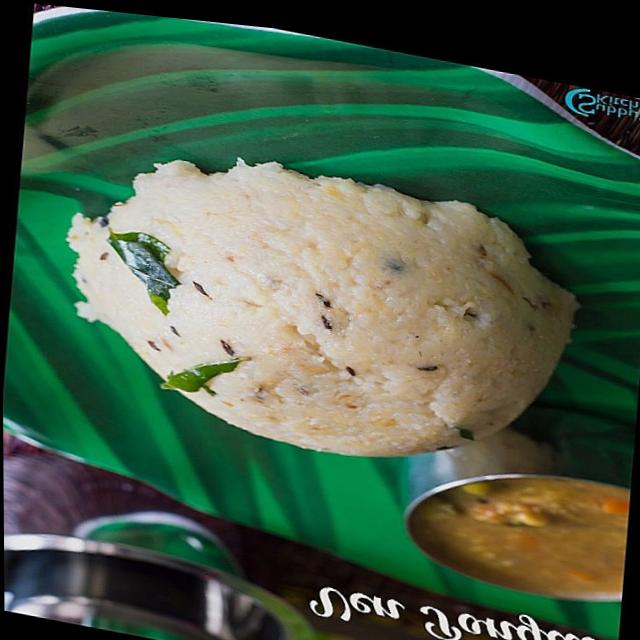PONGAL: (64, 159, 575, 455)
SAMBAR: (411, 474, 631, 596)
